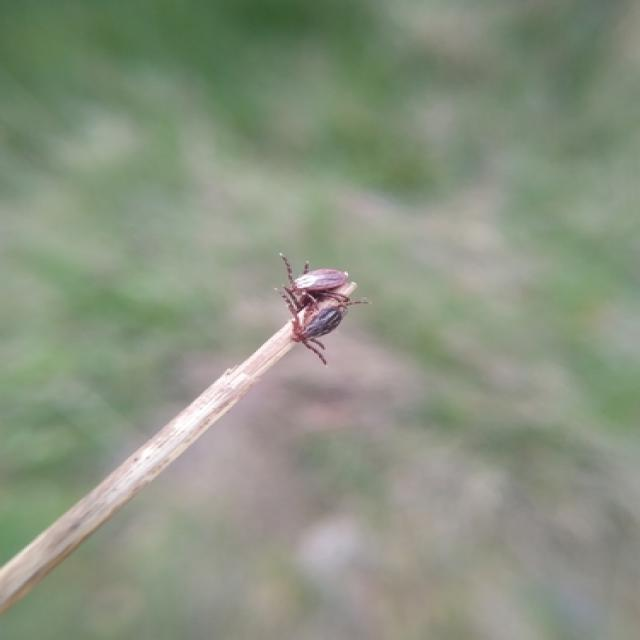Dermacentor Reticulatus-F: (282, 256, 357, 297)
Dermacentor Reticulatus-M: (283, 289, 357, 364)
